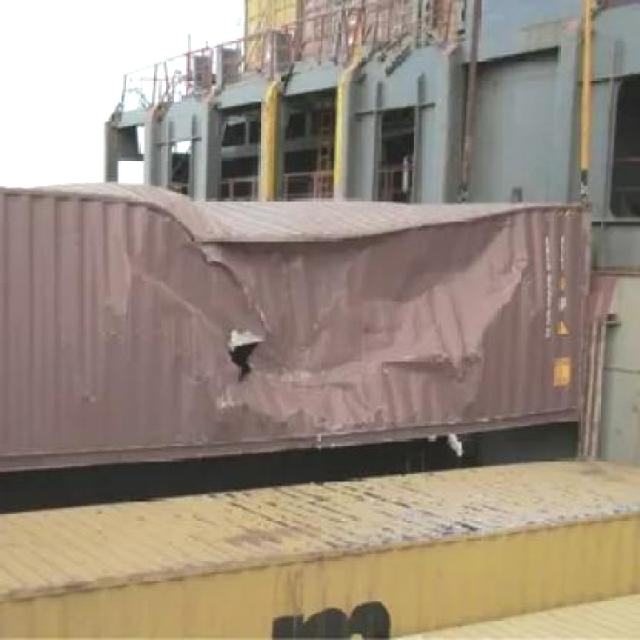Dent: (138, 182, 539, 302), (270, 301, 534, 442)
Hole: (227, 343, 263, 387)
